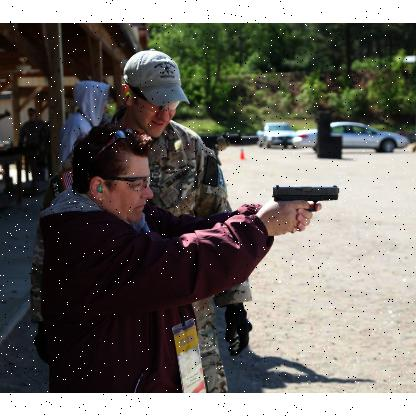gun: (272, 184, 340, 210)
